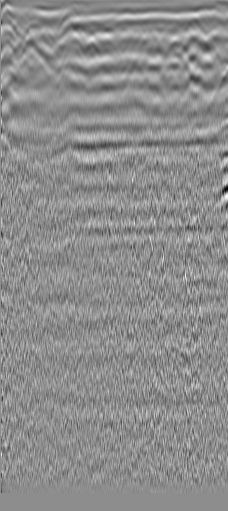가스: (213, 177, 228, 207)
오수: (18, 20, 49, 48)
우수: (159, 38, 186, 58)
